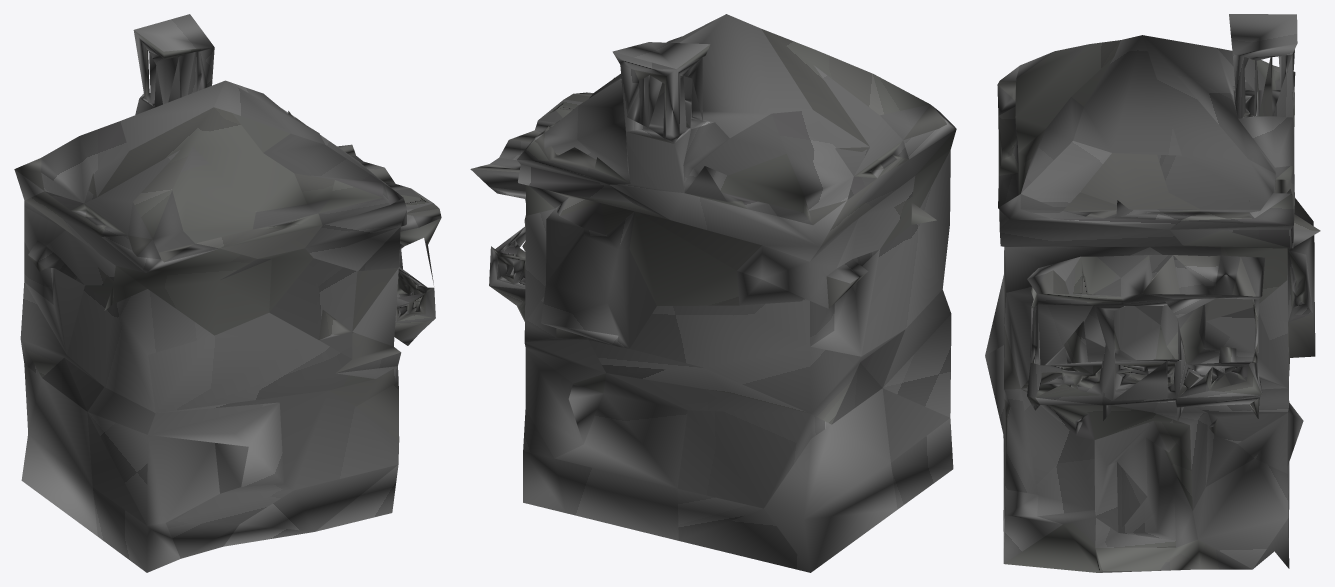
Rendered from house_merchant_0_lo.glb.
The picture shows the model from 3 angles, left to right: view 1: azimuth 30°, elevation 25°; view 2: azimuth 150°, elevation 25°; view 3: azimuth 270°, elevation 25°; orthographic projection. The views are drawn at different scales.
Visible parts, largest first — view 1: tripo_node_e8c3637a-7642-41ce-a474-6af97cdf0c9b; view 2: tripo_node_e8c3637a-7642-41ce-a474-6af97cdf0c9b; view 3: tripo_node_e8c3637a-7642-41ce-a474-6af97cdf0c9b.
Part boxes in pixels (bbox=[...]): tripo_node_e8c3637a-7642-41ce-a474-6af97cdf0c9b: bbox=[14, 14, 441, 572]; tripo_node_e8c3637a-7642-41ce-a474-6af97cdf0c9b: bbox=[470, 14, 956, 572]; tripo_node_e8c3637a-7642-41ce-a474-6af97cdf0c9b: bbox=[985, 14, 1320, 572].
Size of the model in its own units: 0.7598 by 0.9274 by 0.5881.
1 material, 1 textured.
